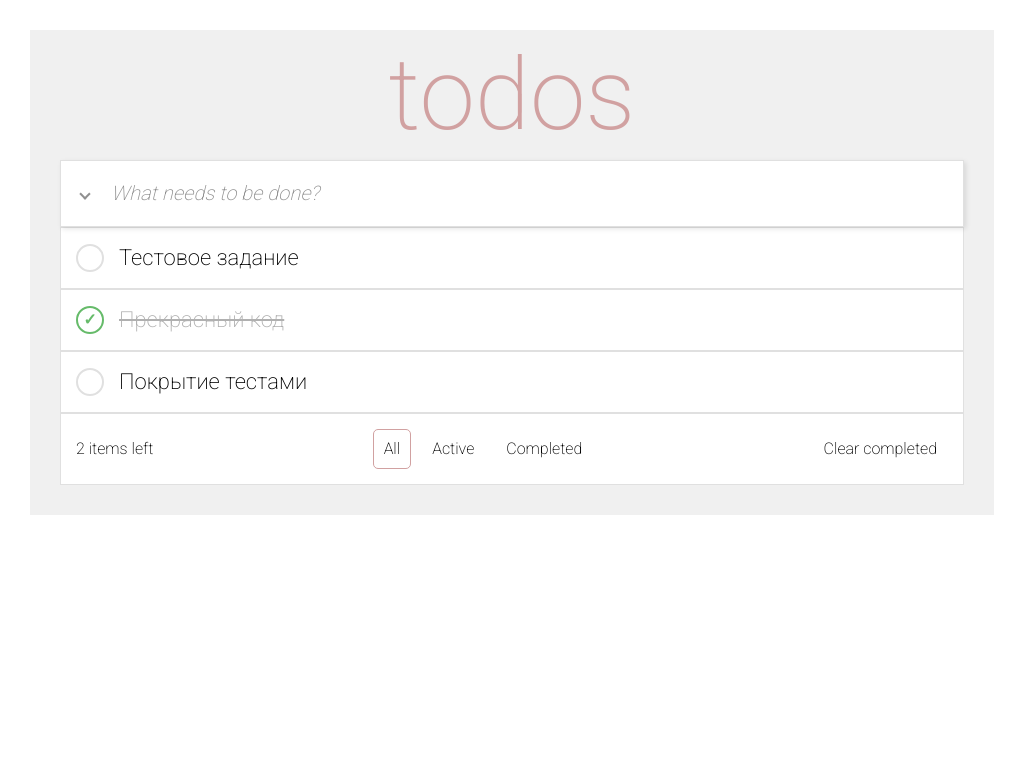
it: Список задач › Добавление новой задачи
Type "Покормить кота" into the field with placeholder "What needs to be done?" at (512, 194), box [81, 181, 943, 206]
Then press Enter
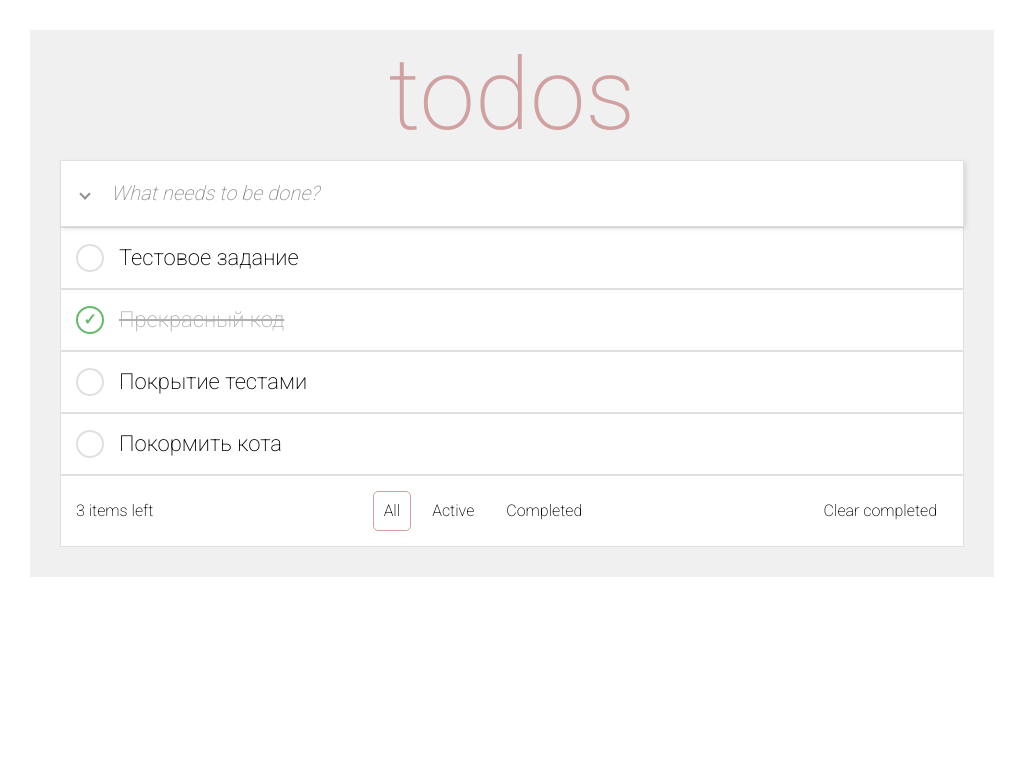
Now the text "Покормить кота" is shown, box [119, 429, 282, 459]
